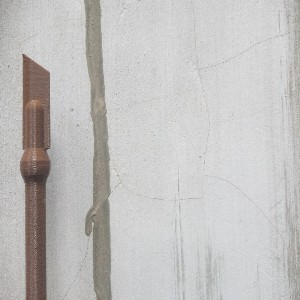cutter: (18, 51, 52, 300)
